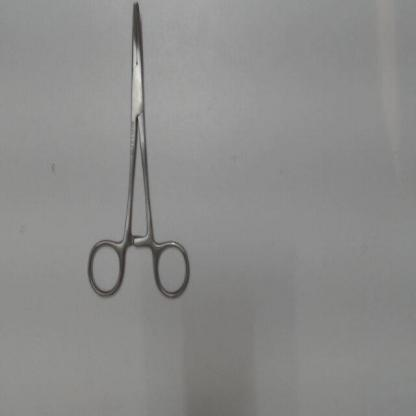Crile Artery Forceps: (84, 1, 198, 302)
